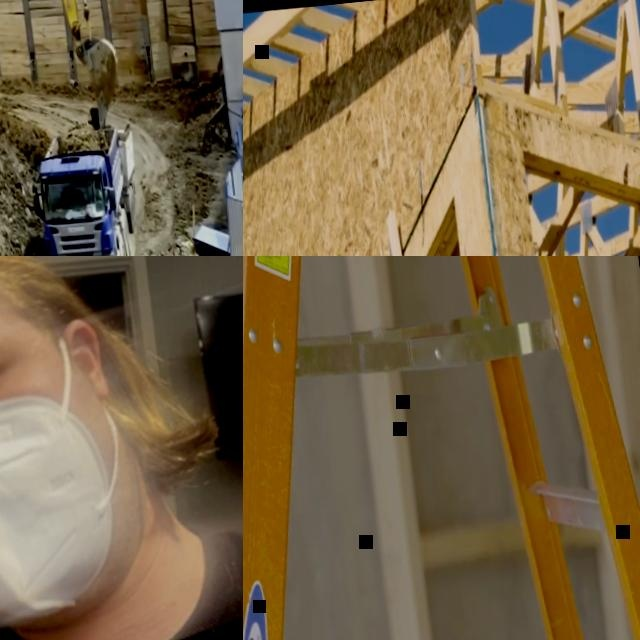Mask: (0, 380, 142, 640)
NO-Safety Vest: (0, 514, 243, 640)
Person: (0, 256, 243, 640), (88, 182, 101, 202)
Safety Vest: (93, 187, 100, 201)
machinery: (0, 0, 128, 182), (19, 102, 150, 256)
